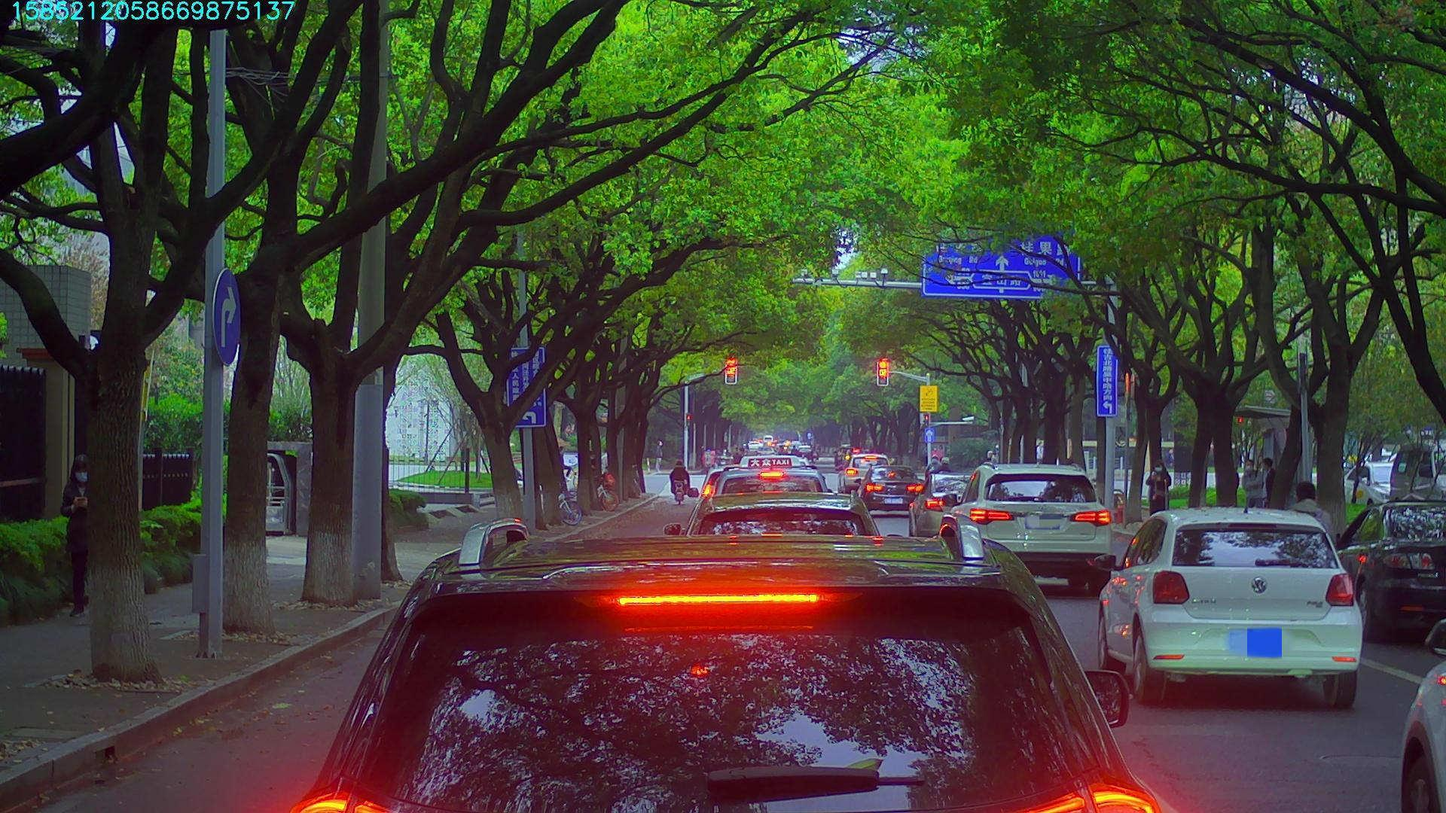red: (725, 355, 736, 383), (877, 358, 887, 385)
